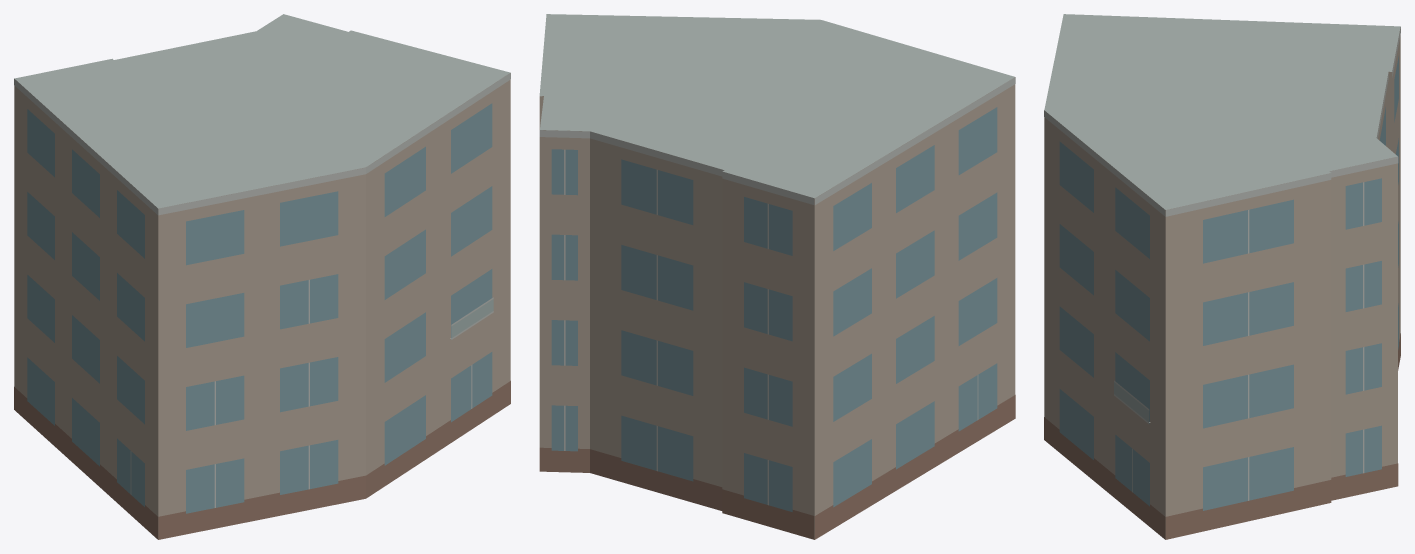
Rendered from survey-upis-32814931.glb.
3 views of the same model, side by side, from view 1: azimuth 30°, elevation 25°; view 2: azimuth 150°, elevation 25°; view 3: azimuth 270°, elevation 25° (orthographic). The views are drawn at different scales.
Visible parts, largest first — view 1: survey-upis-32814931.tmp; view 2: survey-upis-32814931.tmp; view 3: survey-upis-32814931.tmp.
Boxes of the visible parts, bbox=[...] form: survey-upis-32814931.tmp: bbox=[14, 14, 510, 539]; survey-upis-32814931.tmp: bbox=[539, 14, 1015, 539]; survey-upis-32814931.tmp: bbox=[1044, 14, 1400, 539].
Bounding box in the file's own units: 15.06 × 11.8 × 11.57.
